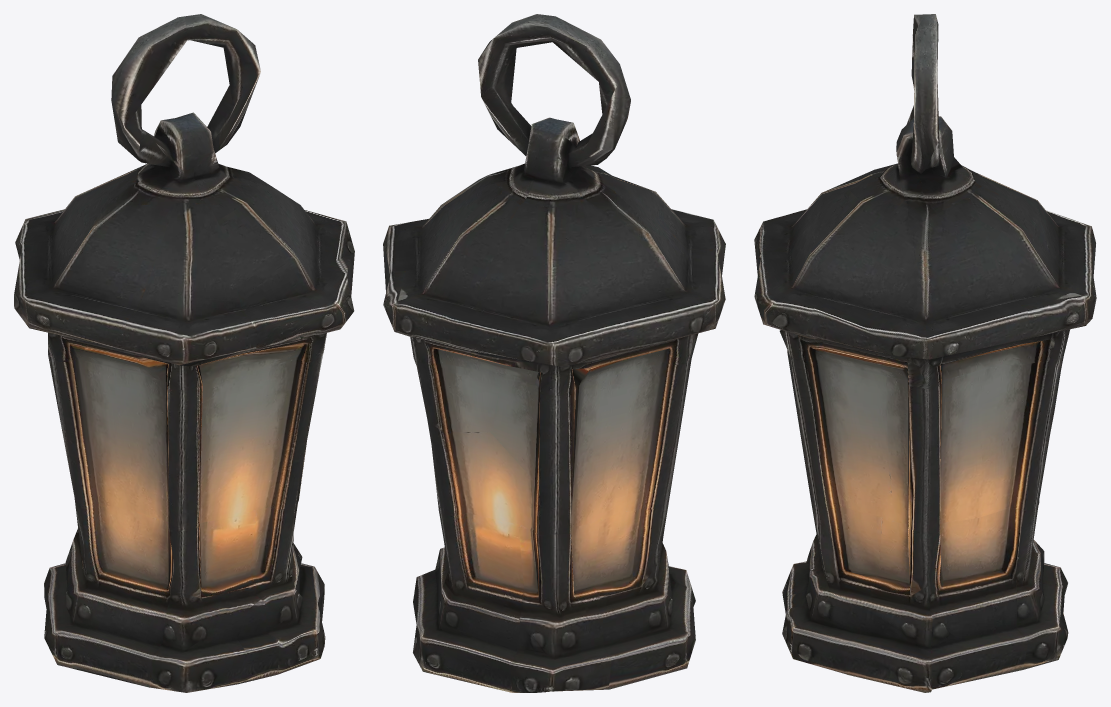
Rendered from lantern.glb.
3 renders of one model, left to right at view 1: azimuth 30°, elevation 25°; view 2: azimuth 150°, elevation 25°; view 3: azimuth 270°, elevation 25°, orthographic.
Size of the model in its own units: 1.04 by 1.9 by 0.9623.
Materials: 1 (1 with a texture image).
